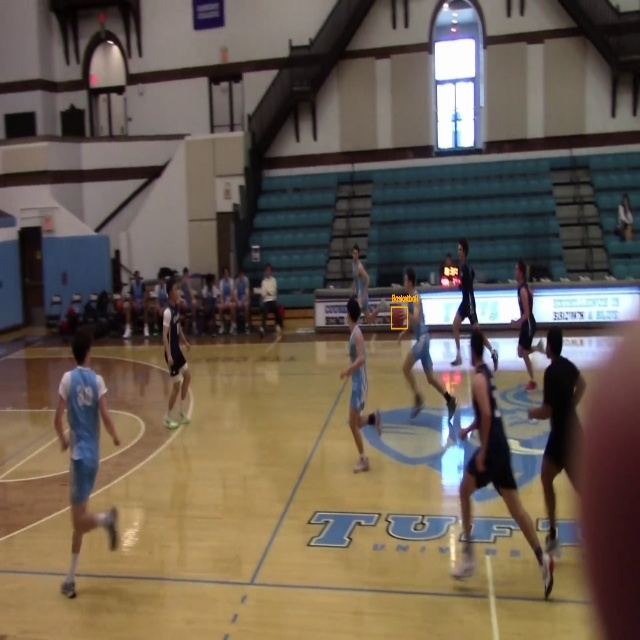Basketball: (392, 307, 407, 329)
